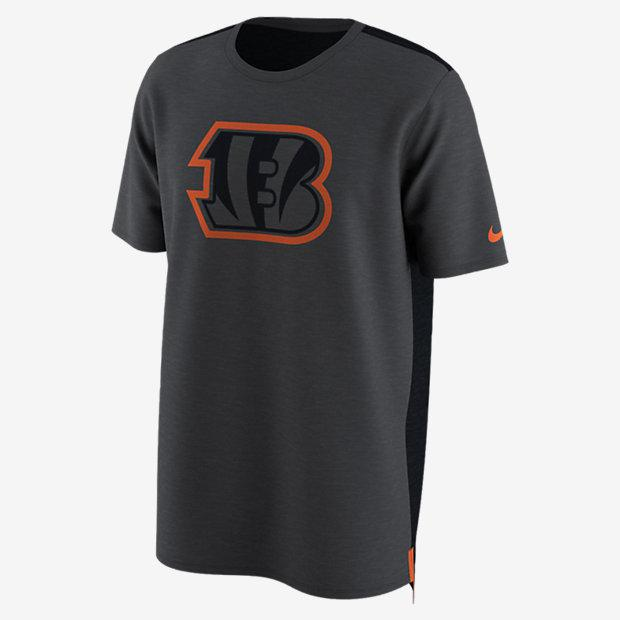teeshirt: (107, 9, 528, 618)
